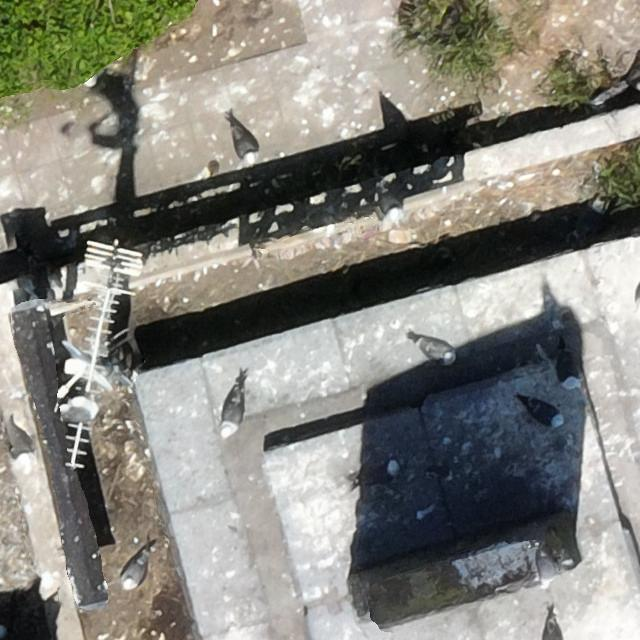umineko: (6, 416, 37, 474), (352, 458, 406, 491), (220, 383, 246, 440), (231, 120, 261, 166), (376, 186, 404, 227), (558, 347, 582, 392), (61, 394, 100, 420), (529, 402, 562, 426), (122, 558, 146, 589), (422, 340, 453, 360)
